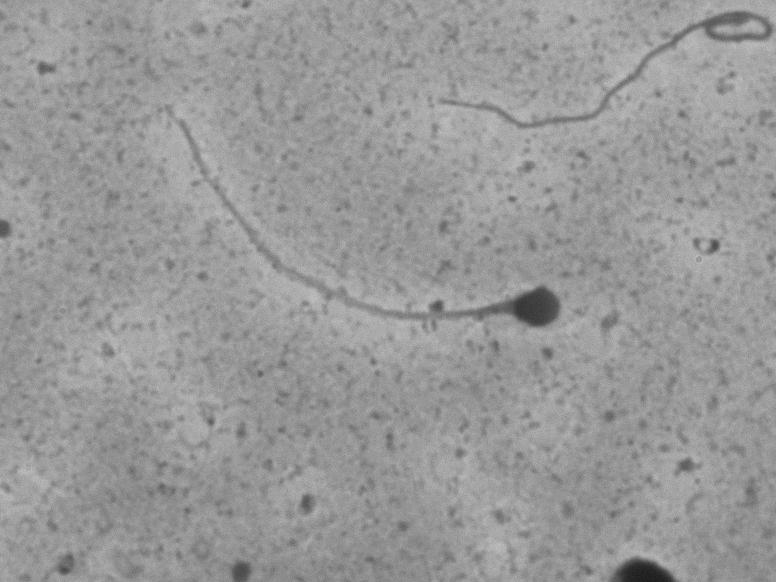Abnormal: (129, 137, 564, 383)
